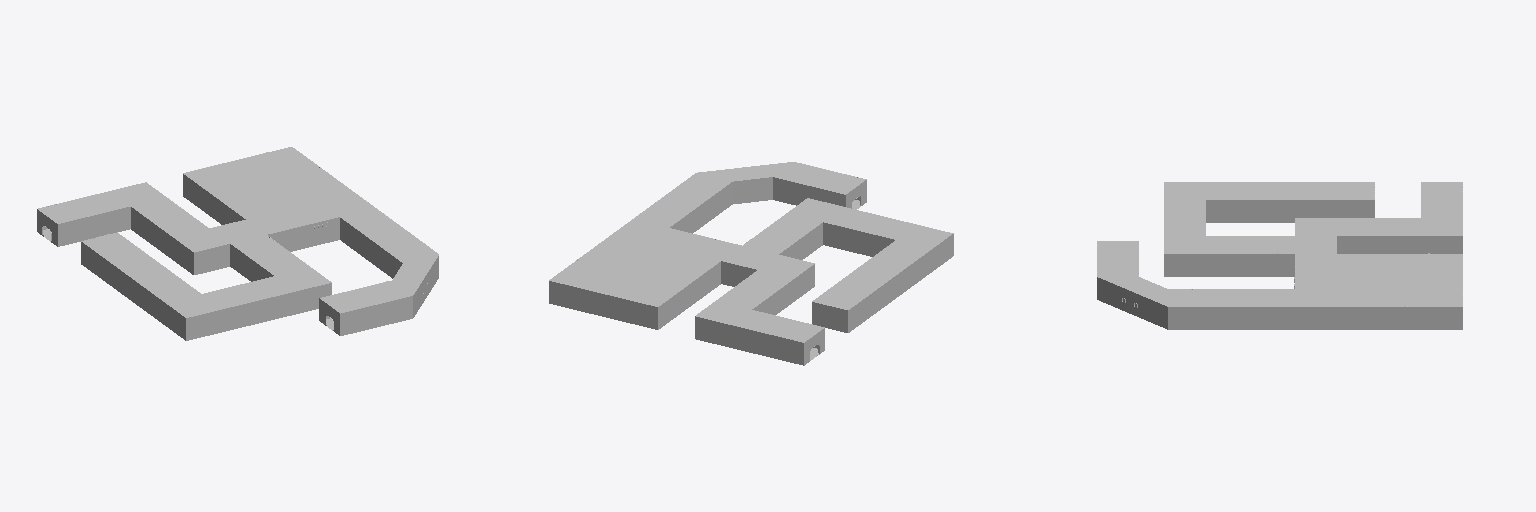
Rendered from room1.obj.
The picture shows the model from 3 angles: view 1: azimuth 30°, elevation 25°; view 2: azimuth 150°, elevation 25°; view 3: azimuth 270°, elevation 25°; orthographic projection.
Parts seen in each view (by area): view 1: LowPoly_Room1_Cylinder.1176; view 2: LowPoly_Room1_Cylinder.1176; view 3: LowPoly_Room1_Cylinder.1176.
Part boxes in pixels (x1,y1,x2,y2): LowPoly_Room1_Cylinder.1176: (37, 147, 438, 340); LowPoly_Room1_Cylinder.1176: (549, 162, 953, 365); LowPoly_Room1_Cylinder.1176: (1097, 182, 1462, 329).
Size of the model in its own units: 70 by 6.1 by 87.